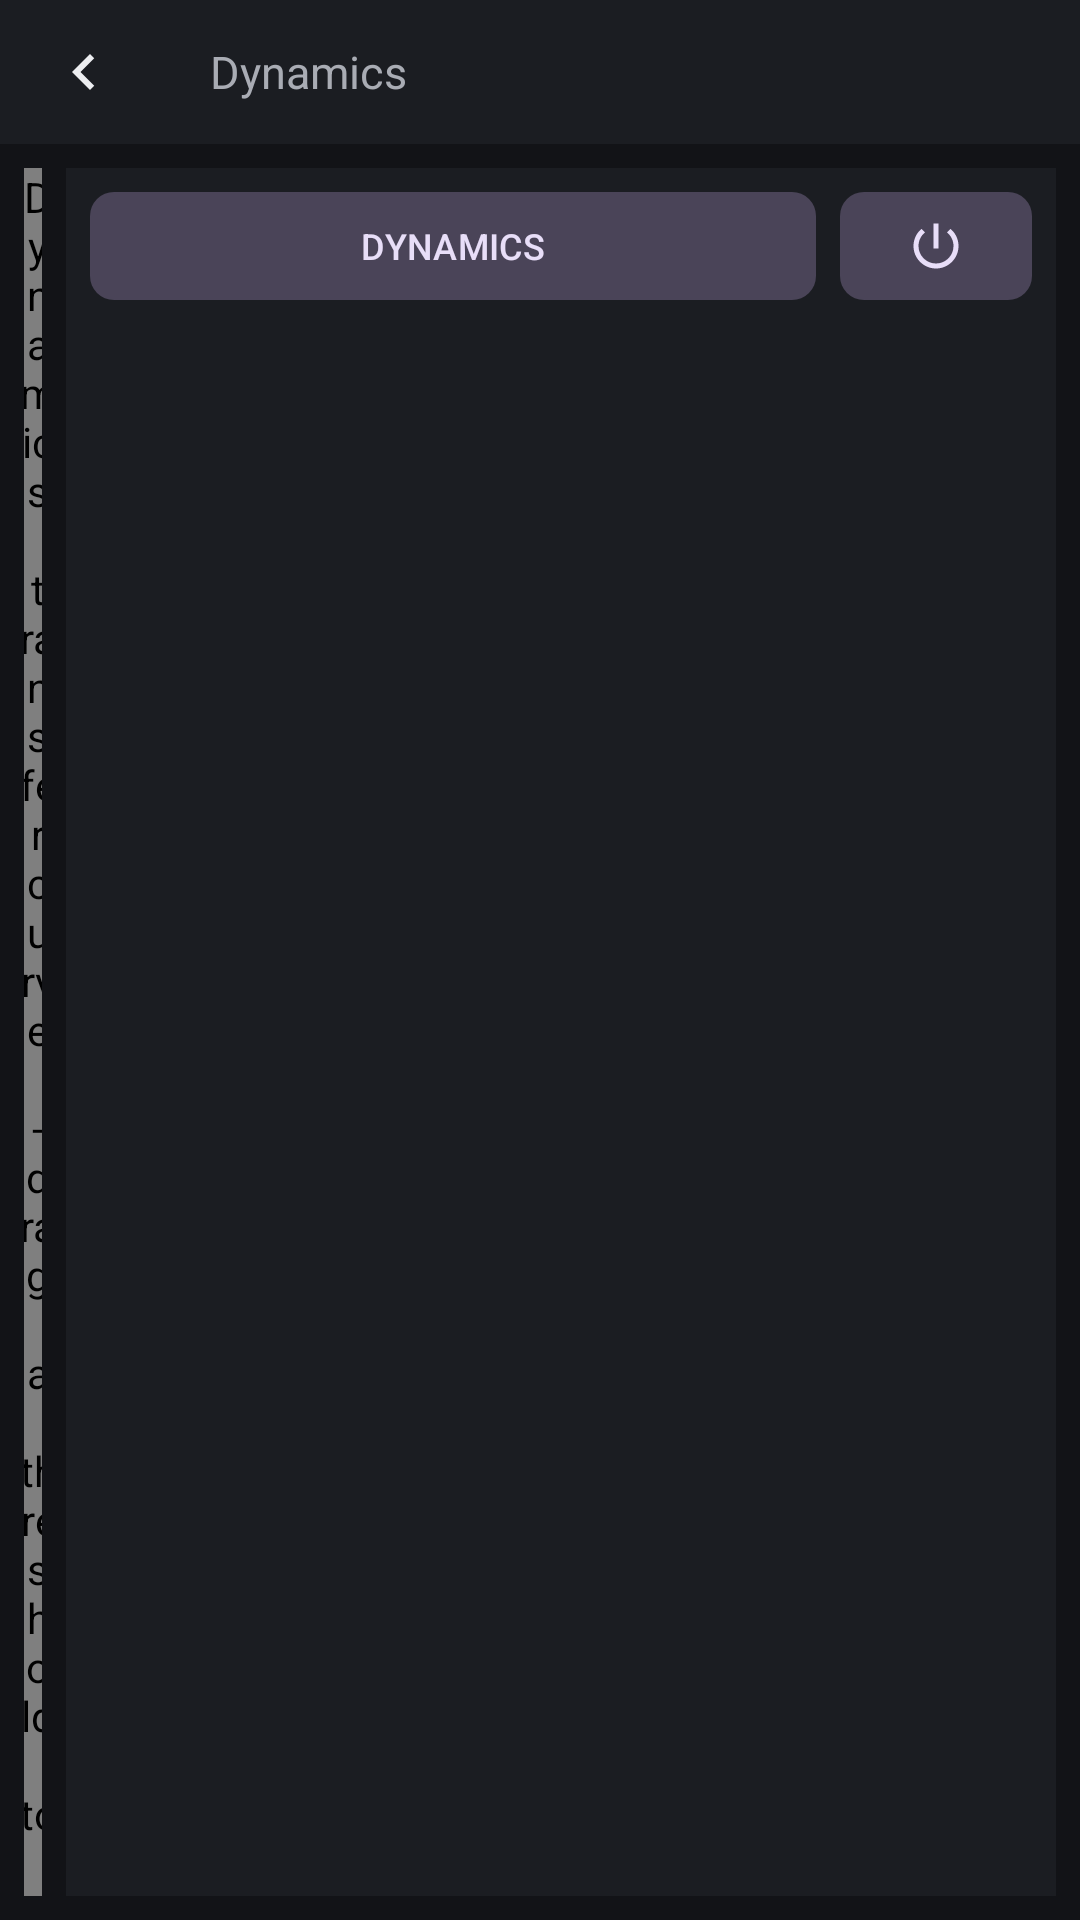

Icon click points for this 1080 × 1920 phone screenshot, format point (x, y):
Back to the mixer: point (83, 72)
Section in or out: point (936, 246)
